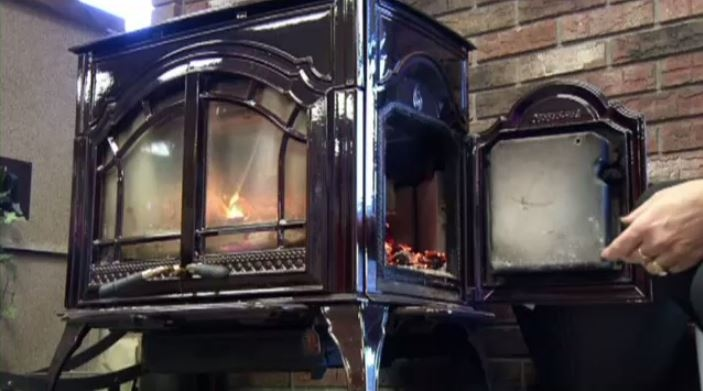stove: (49, 23, 500, 345)
